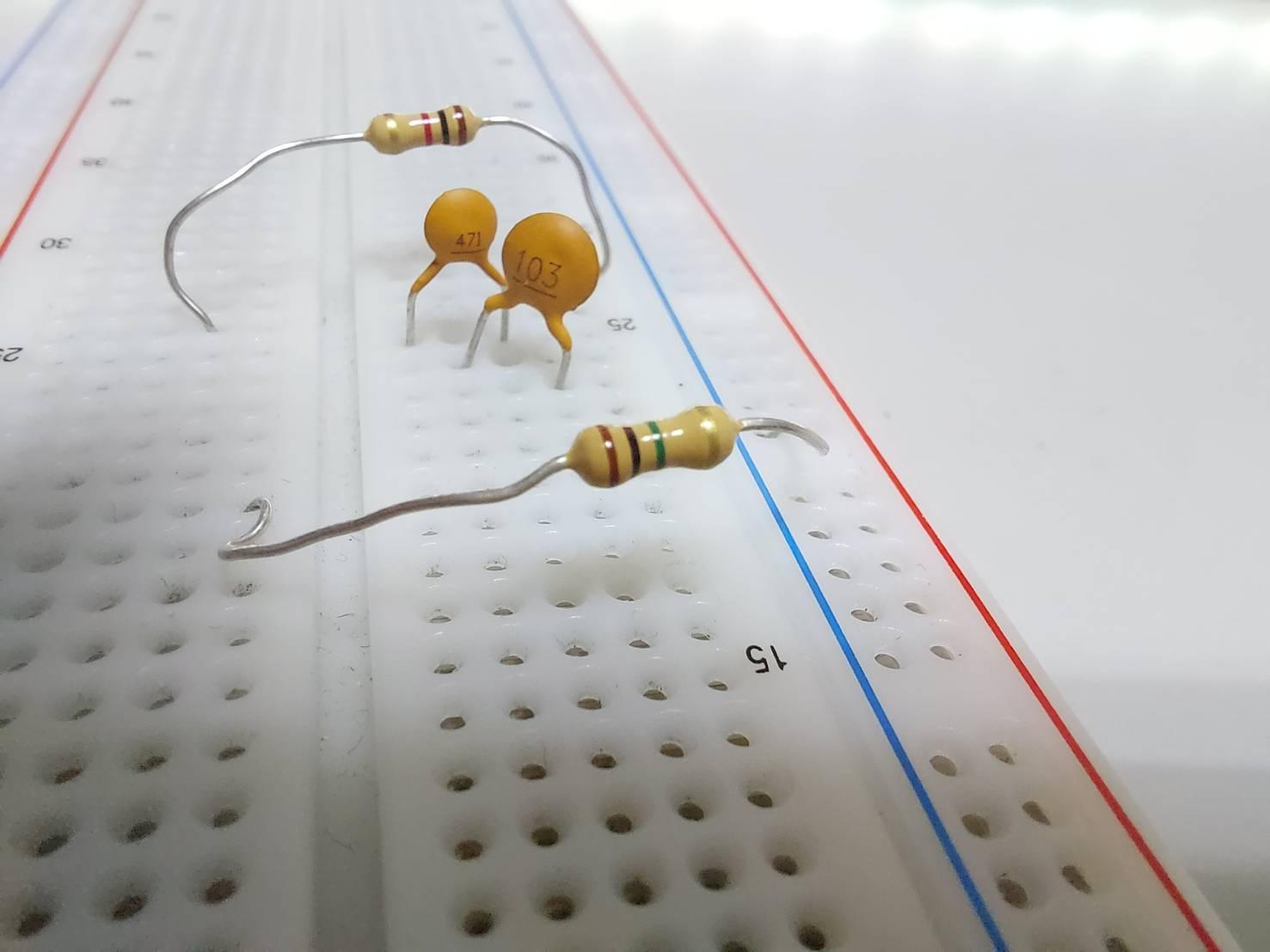resistor: (546, 406, 764, 482), (365, 103, 494, 154)
